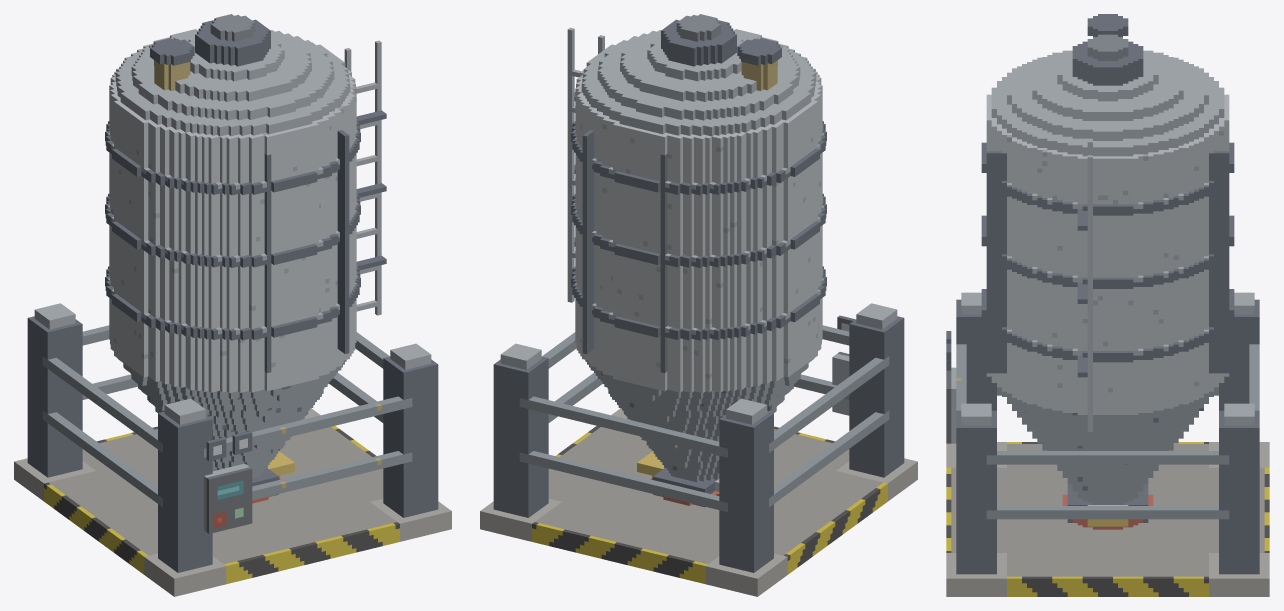
File: silo.glb
3 views of the same model, side by side, from view 1: azimuth 30°, elevation 25°; view 2: azimuth 150°, elevation 25°; view 3: azimuth 270°, elevation 25° (orthographic).
Parts seen in each view (by area): view 1: silo; view 2: silo; view 3: silo.
Boxes of the visible parts, x1,y1,x2,y2 form: silo: (14, 14, 451, 596); silo: (480, 14, 917, 596); silo: (946, 14, 1269, 596).
Size of the model in its own units: 2 by 3.31 by 2.
